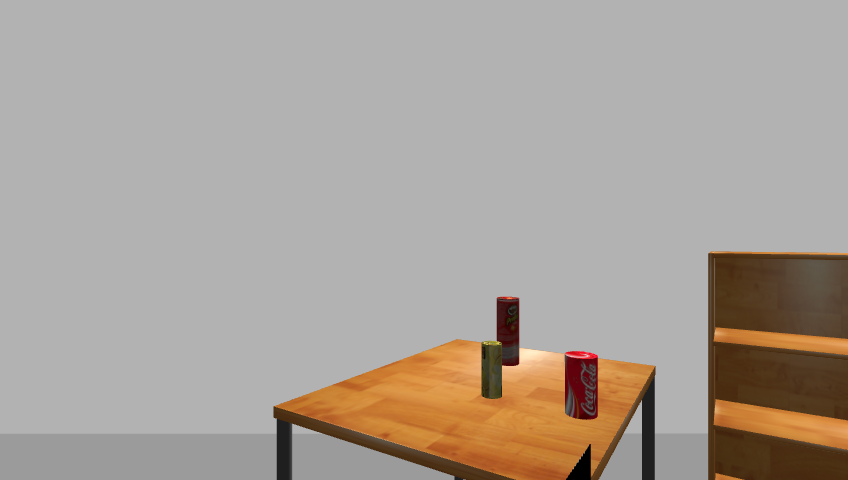aruco marker: (559, 444, 595, 480)
biscuits pack: (479, 340, 503, 400)
bookshelf: (702, 250, 848, 479)
coke can: (562, 351, 600, 420)
dinner table: (267, 340, 664, 480)
pringles can: (494, 295, 523, 369)
